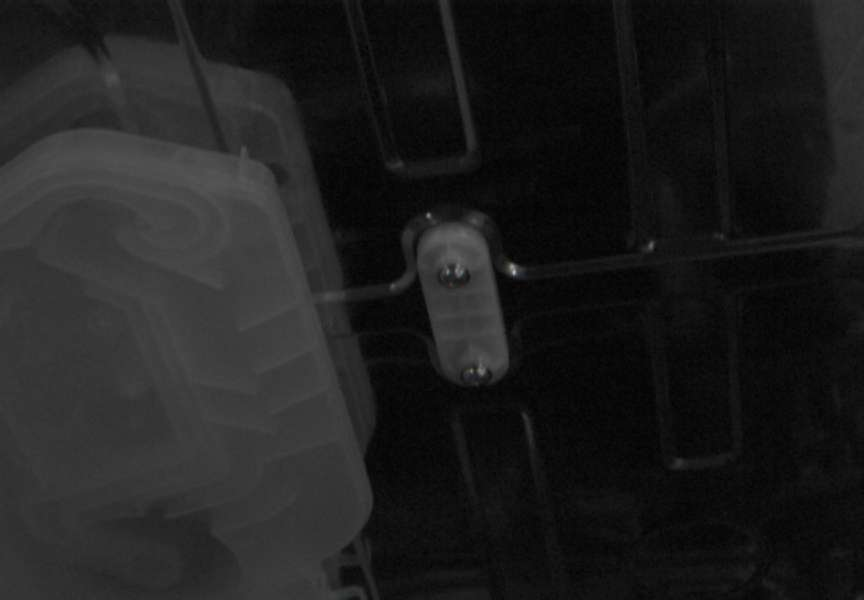screw: (438, 263, 470, 289), (461, 363, 493, 387)
